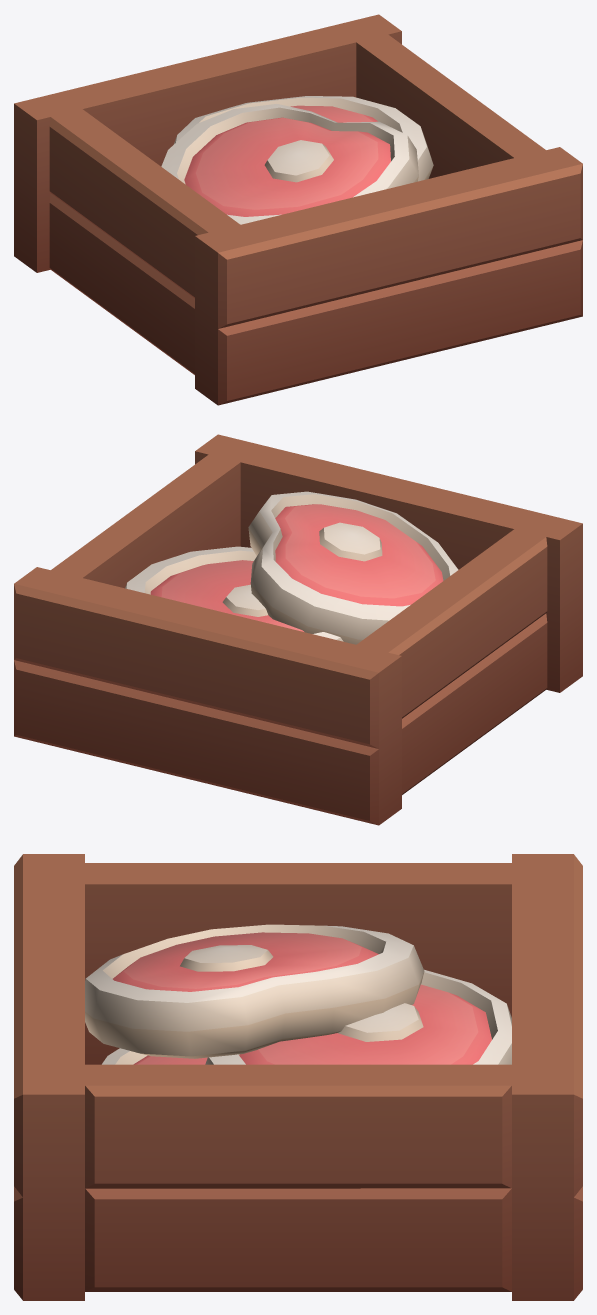
The model's file is crate_steak.obj.
3 renders of one model, top to bottom at view 1: azimuth 30°, elevation 25°; view 2: azimuth 150°, elevation 25°; view 3: azimuth 270°, elevation 25°, orthographic. The views are drawn at different scales.
Visible parts, largest first — view 1: crate_steak_Cube.235; view 2: crate_steak_Cube.235; view 3: crate_steak_Cube.235.
Boxes of the visible parts, <box> form: crate_steak_Cube.235: <box>14,14,582,405</box>; crate_steak_Cube.235: <box>14,434,582,825</box>; crate_steak_Cube.235: <box>14,854,582,1300</box>.
Size of the model in its own units: 2 by 0.8769 by 2.
Materials: 1 (1 with a texture image).
